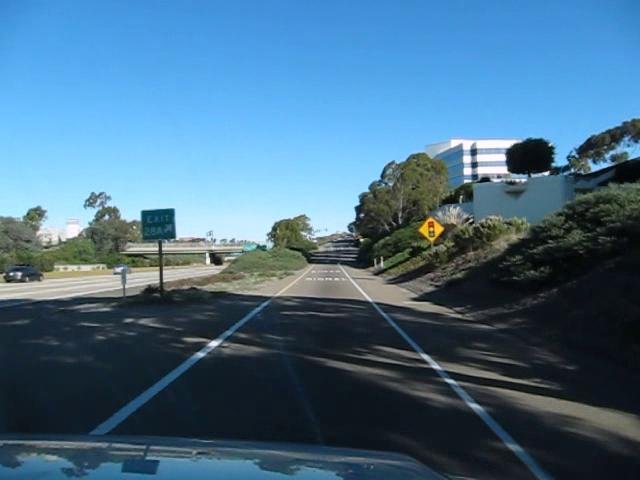signalAhead: (417, 214, 445, 242)
